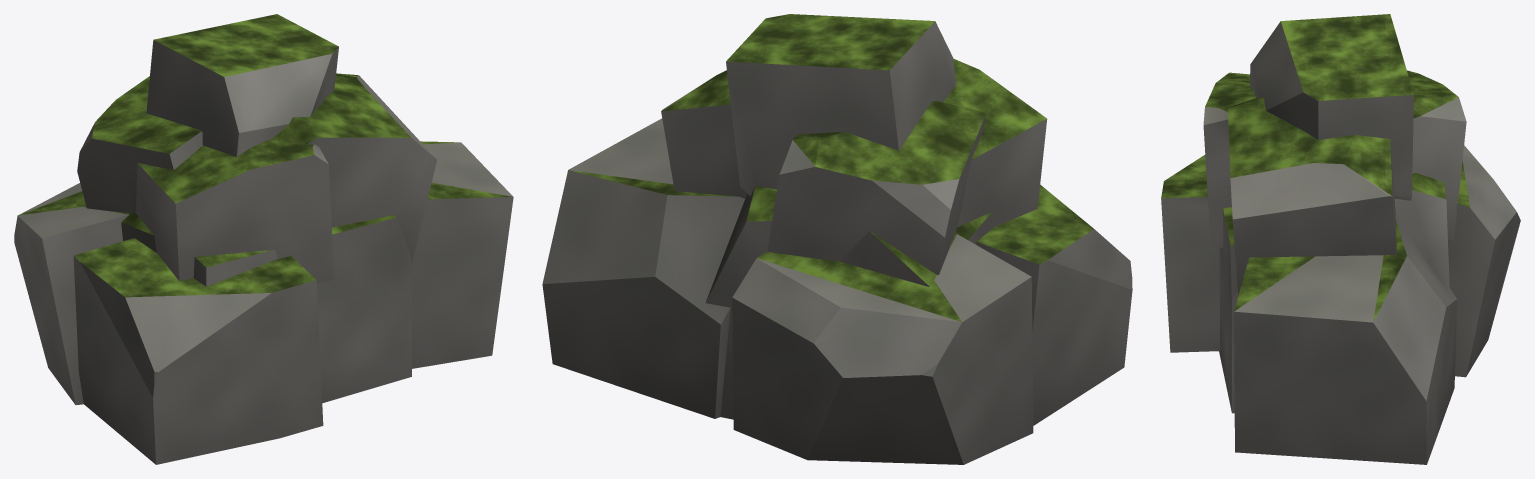
File: Cracked_rock_07.lod2.glb
3 views of the same model, side by side, from view 1: azimuth 30°, elevation 25°; view 2: azimuth 150°, elevation 25°; view 3: azimuth 270°, elevation 25° (orthographic). The views are drawn at different scales.
Visible parts, largest first — view 1: Rock; view 2: Rock; view 3: Rock.
Part boxes in pixels (x1,y1,x2,y2): Rock: [14, 14, 513, 464]; Rock: [542, 14, 1132, 464]; Rock: [1161, 14, 1520, 464].
Bounding box in the file's own units: 4.02 × 2.95 × 3.05.
2 materials, 2 textured.
